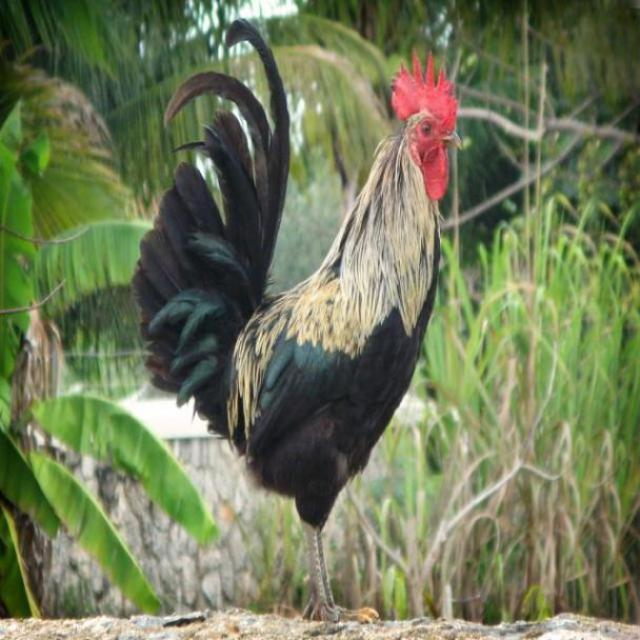Chicken: (130, 42, 469, 640)
